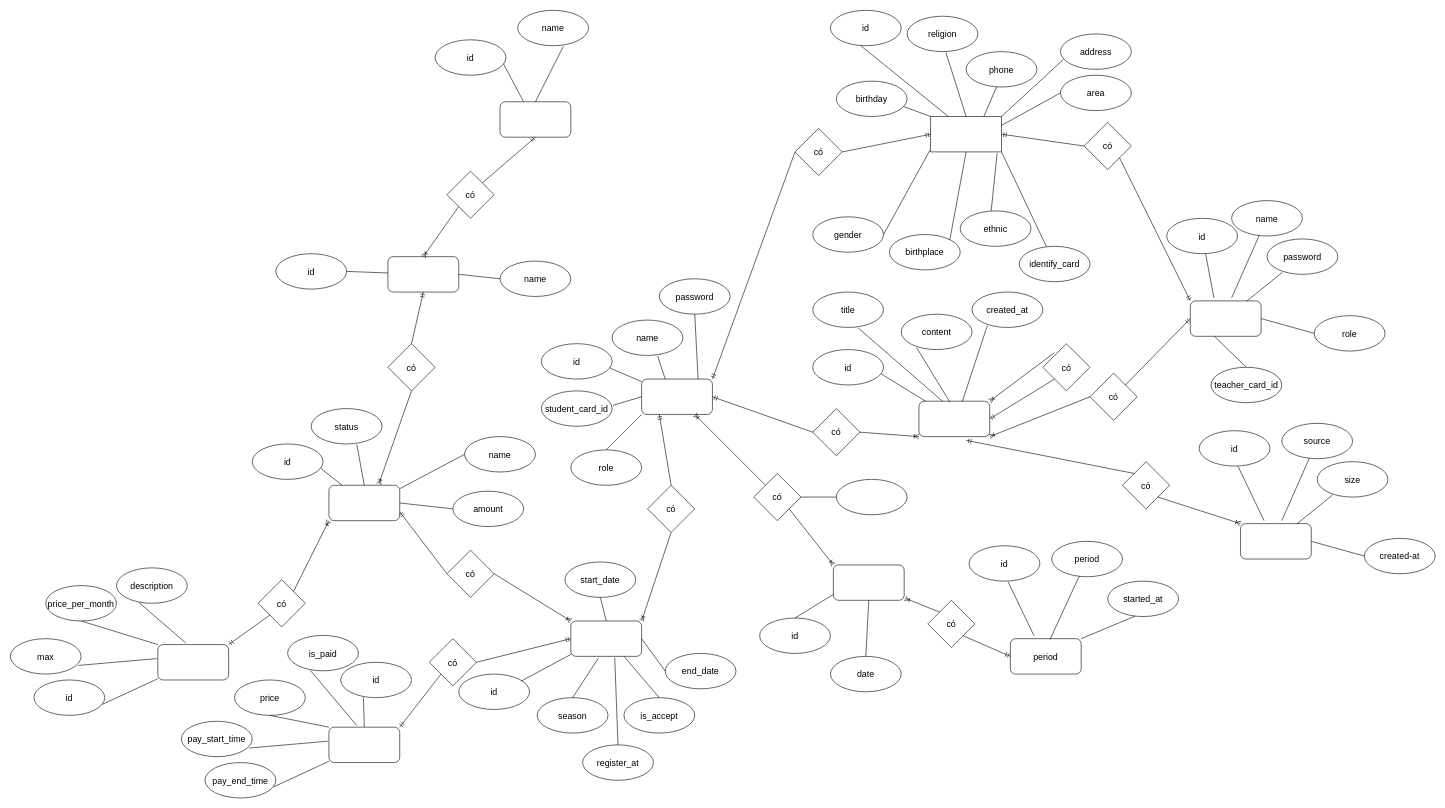
Image size: 1445x808. Some labels were removed from this diagram. Each missing label, with the box of its shape:
bill: (328, 727, 400, 763)
builiding: (499, 101, 571, 137)
contract: (570, 620, 642, 656)
file: (1240, 523, 1311, 559)
floor: (387, 256, 459, 292)
form: (918, 401, 990, 437)
information: (930, 116, 1002, 152)
is_check_in: (836, 479, 907, 515)
room: (328, 485, 400, 521)
room_detail: (157, 644, 229, 680)
schedule: (833, 564, 904, 600)
student: (641, 378, 712, 414)
teacher: (1190, 300, 1261, 336)
